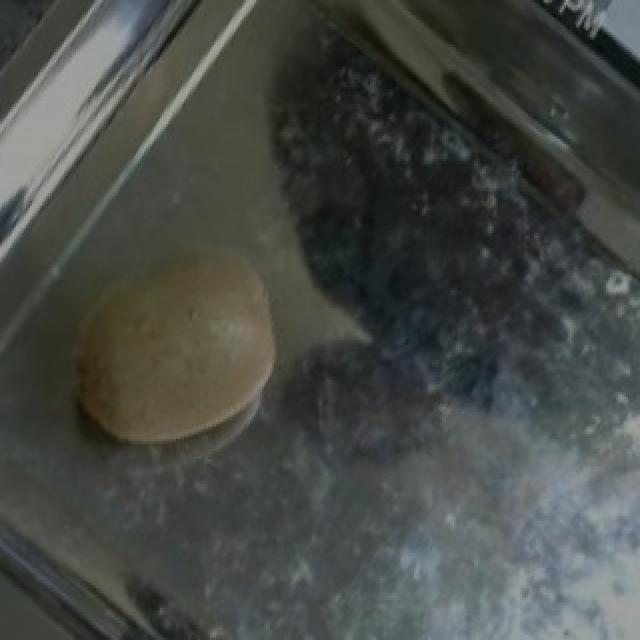Fruit: (4, 196, 312, 481)
